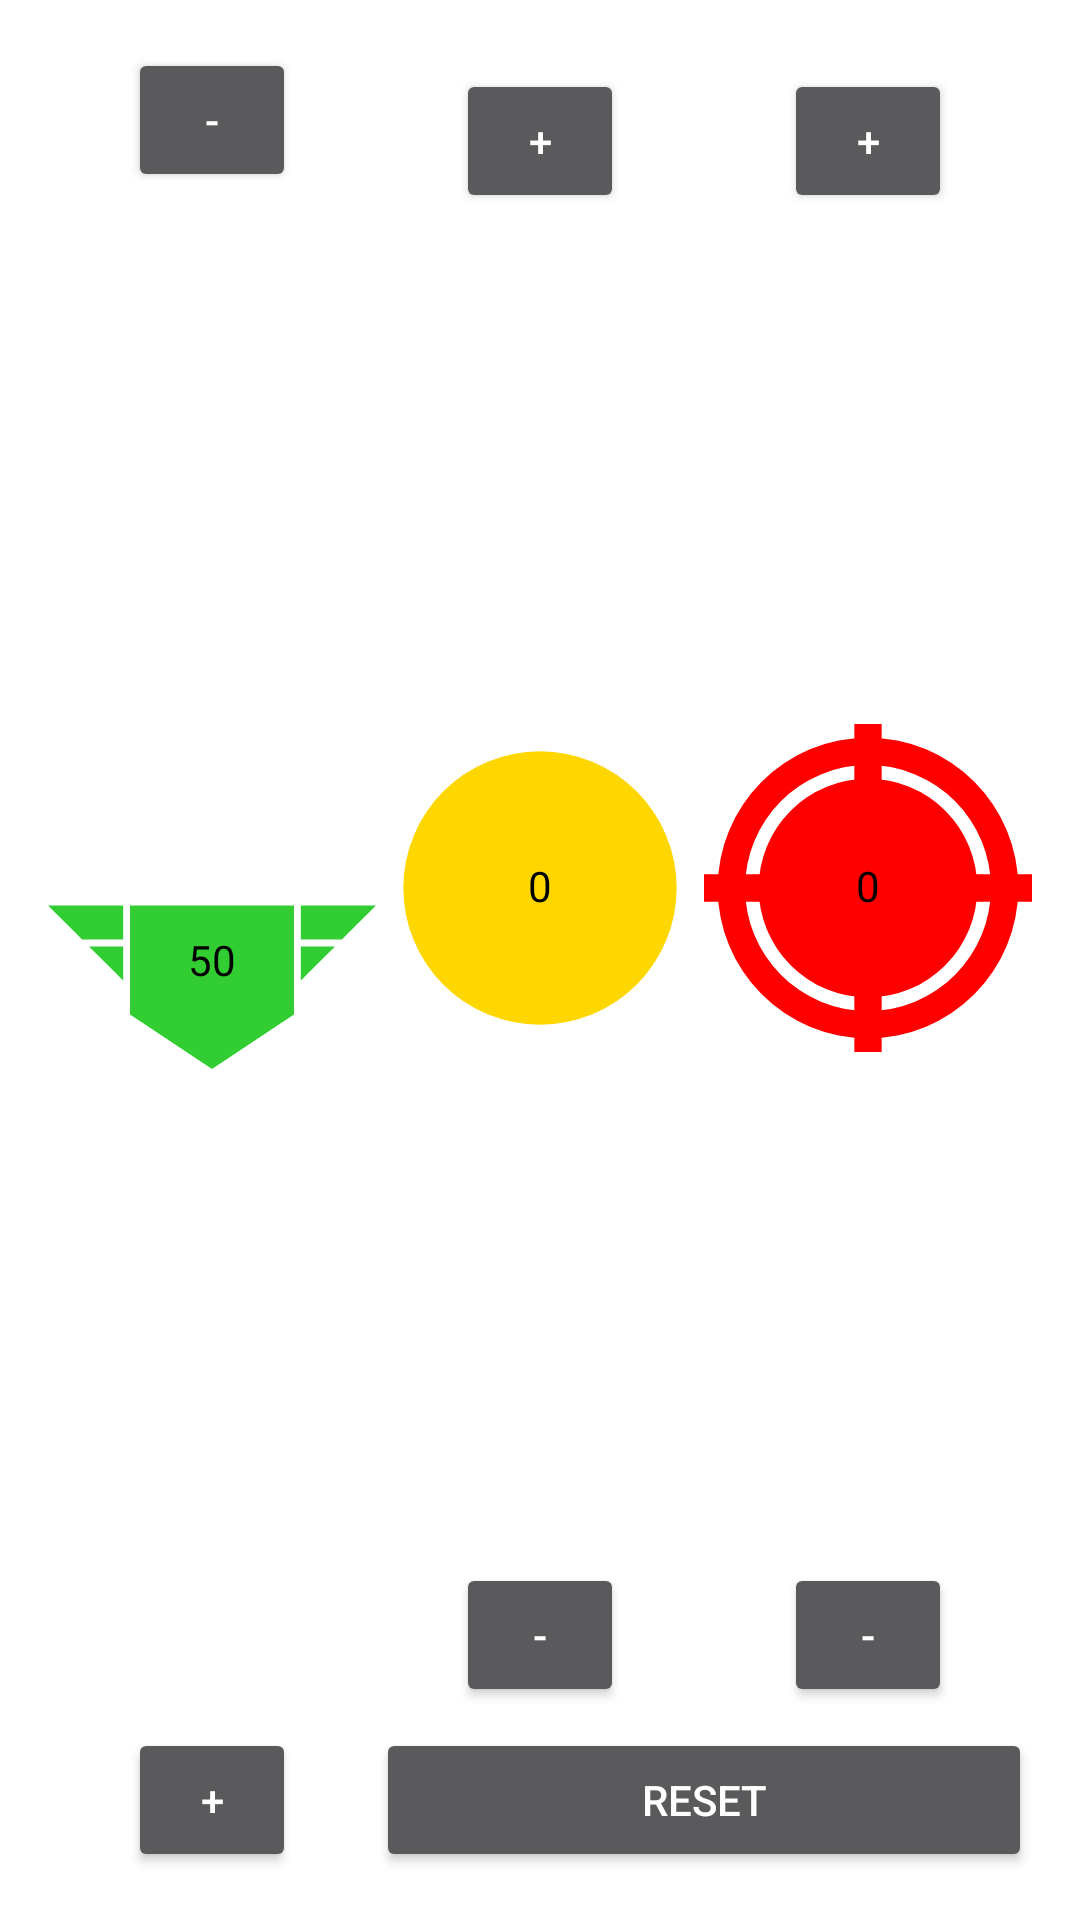

Where to tap for icons on this 1080×1920 app screen, as (x=x, y=y):
authority: (x=212, y=987)
combat: (x=868, y=888)
